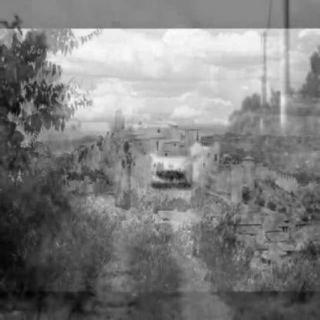other: (182, 141, 230, 187)
